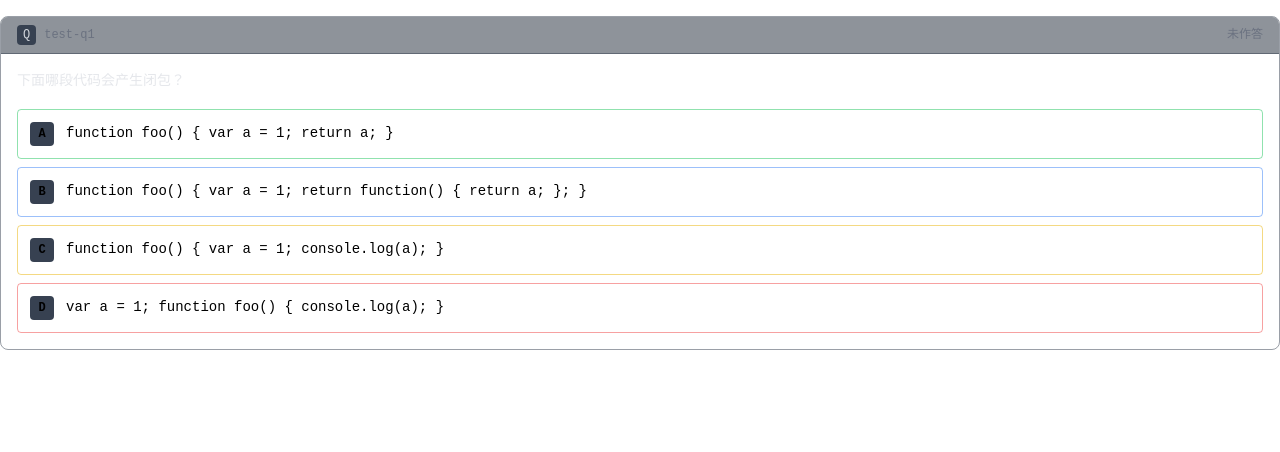
Test case: QuestionBlock.vue › handles option click correctly - wrong answer
# Click a wrong answer (A)
Click the element showing "A function foo() { var a = 1; return a; }": (640, 134) [17,109,1263,159]
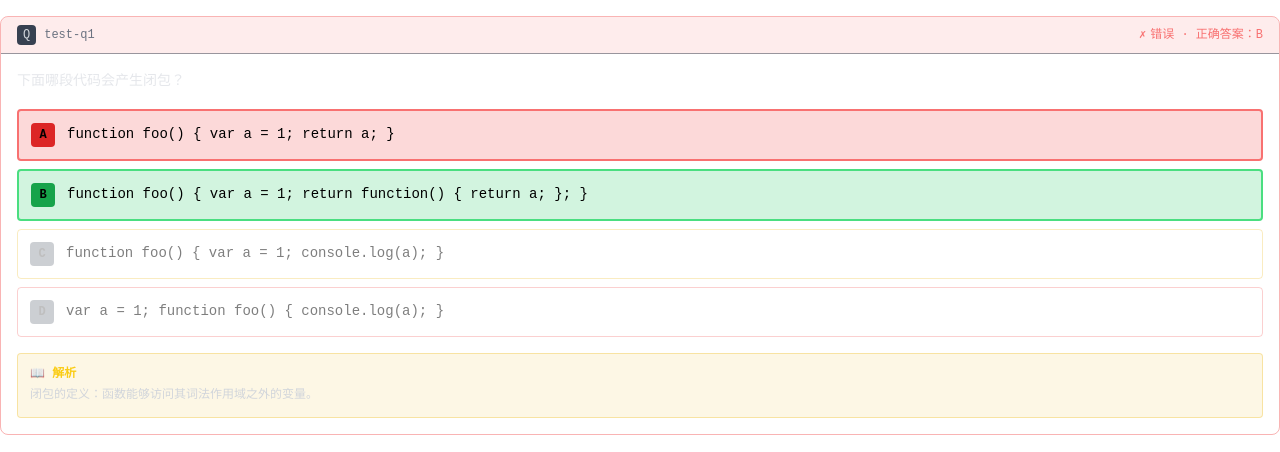
Check: the text "错误" is shown, box [1150,28,1263,42]
Check: the text "正确答案：B" is shown, box [1150,28,1263,42]
